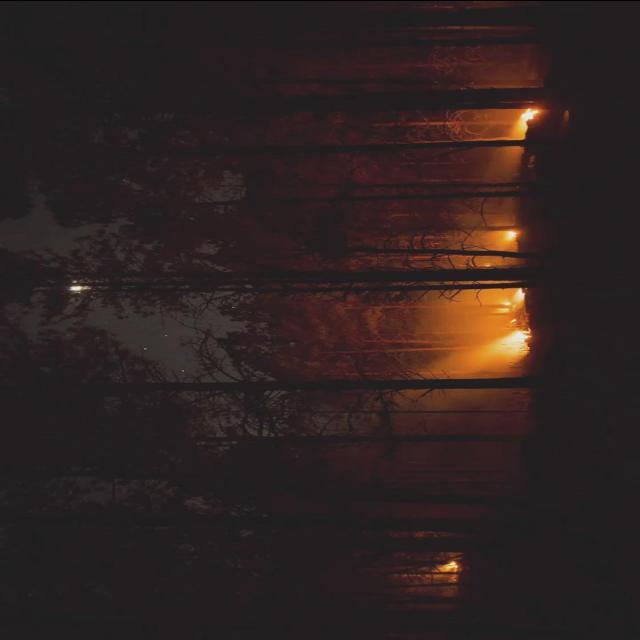Fire: (498, 328, 530, 356), (497, 287, 527, 311), (511, 109, 537, 133), (499, 230, 519, 244), (439, 561, 459, 571)
